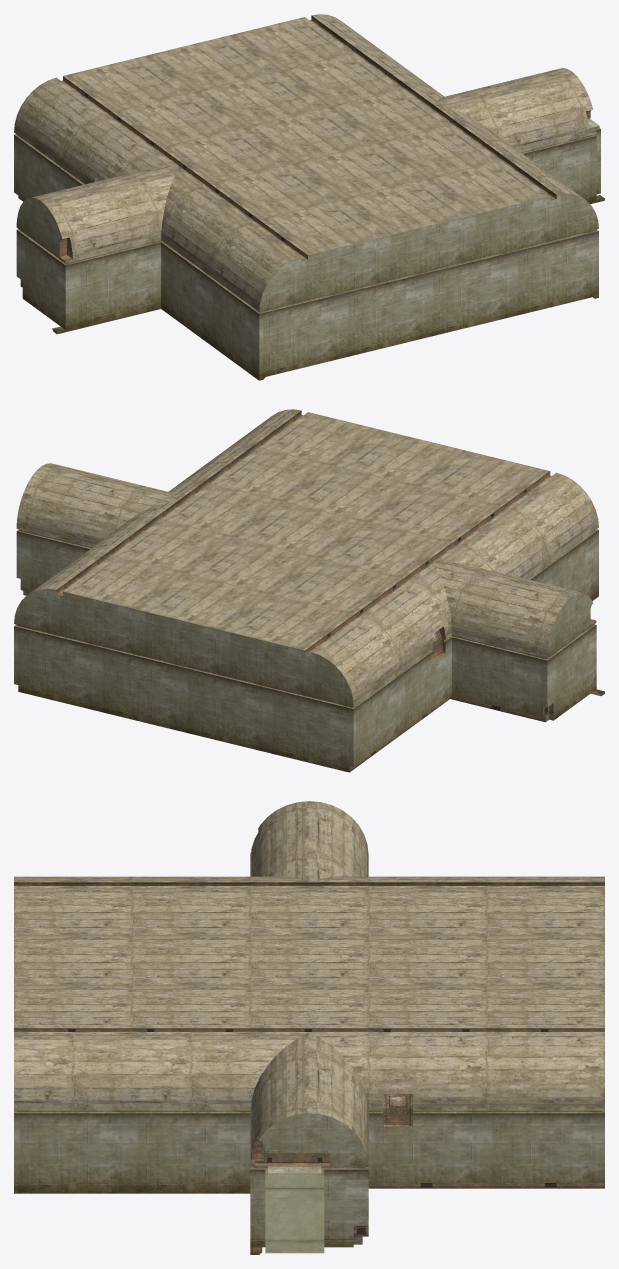
Rendered from poi_all_bunker_allum_mine_r14_smallroom14_mesh_r14.fbx.
3 views of the same model, one above another, from view 1: azimuth 30°, elevation 25°; view 2: azimuth 150°, elevation 25°; view 3: azimuth 270°, elevation 25° (orthographic). The views are drawn at different scales.
Parts seen in each view (by area): view 1: mesh_node; view 2: mesh_node; view 3: mesh_node.
Boxes of the visible parts, x1=… form: mesh_node: x1=14, y1=14, x2=604, y2=380; mesh_node: x1=14, y1=409, x2=604, y2=772; mesh_node: x1=14, y1=801, x2=604, y2=1254.
Bounding box in the file's own units: 25.9 × 5.1 × 20.
